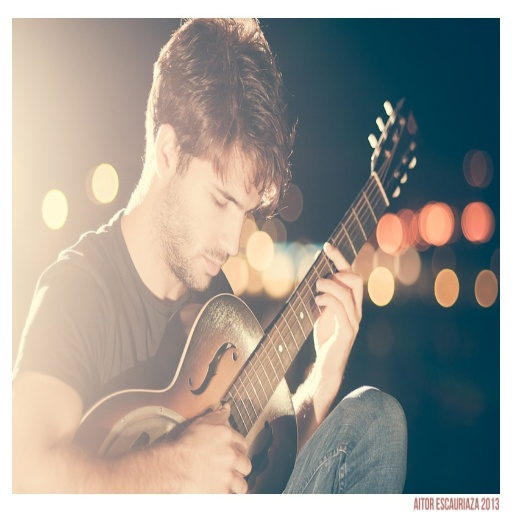hand: (163, 408, 262, 492), (312, 239, 363, 385)
